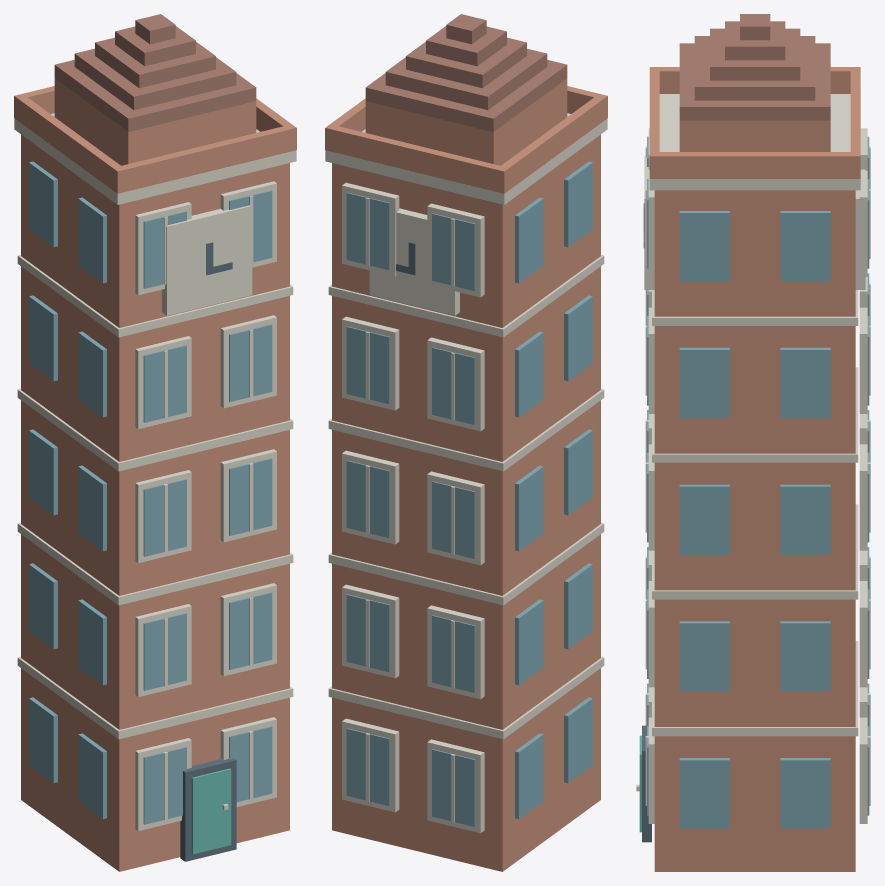
Rendered from voxel-city-districts-clock-tower-da941b4f__24795.glb.
The picture shows the model from 3 angles, left to right: view 1: azimuth 30°, elevation 25°; view 2: azimuth 150°, elevation 25°; view 3: azimuth 270°, elevation 25°; orthographic projection. The views are drawn at different scales.
Parts seen in each view (by area): view 1: clock-tower-brick, clock-tower-glass, clock-tower-concrete, clock-tower-roof, clock-tower-accent, clock-tower-dark; view 2: clock-tower-brick, clock-tower-glass, clock-tower-concrete, clock-tower-roof; view 3: clock-tower-brick, clock-tower-glass, clock-tower-concrete, clock-tower-roof, clock-tower-dark.
Part boxes in pixels (x1=…): clock-tower-brick: x1=14, y1=78, x2=296, y2=871; clock-tower-glass: x1=29, y1=161, x2=272, y2=824; clock-tower-concrete: x1=14, y1=113, x2=296, y2=830; clock-tower-roof: x1=54, y1=14, x2=256, y2=131; clock-tower-accent: x1=191, y1=768, x2=231, y2=854; clock-tower-dark: x1=180, y1=242, x2=236, y2=861; clock-tower-brick: x1=325, y1=78, x2=607, y2=871; clock-tower-glass: x1=346, y1=161, x2=592, y2=826; clock-tower-concrete: x1=325, y1=113, x2=607, y2=833; clock-tower-roof: x1=365, y1=14, x2=567, y2=131; clock-tower-brick: x1=649, y1=67, x2=860, y2=871; clock-tower-glass: x1=647, y1=136, x2=869, y2=828; clock-tower-concrete: x1=636, y1=94, x2=870, y2=823; clock-tower-roof: x1=679, y1=14, x2=830, y2=120; clock-tower-dark: x1=642, y1=203, x2=651, y2=842.
Size of the model in its own units: 4.2 by 17.75 by 4.65.
